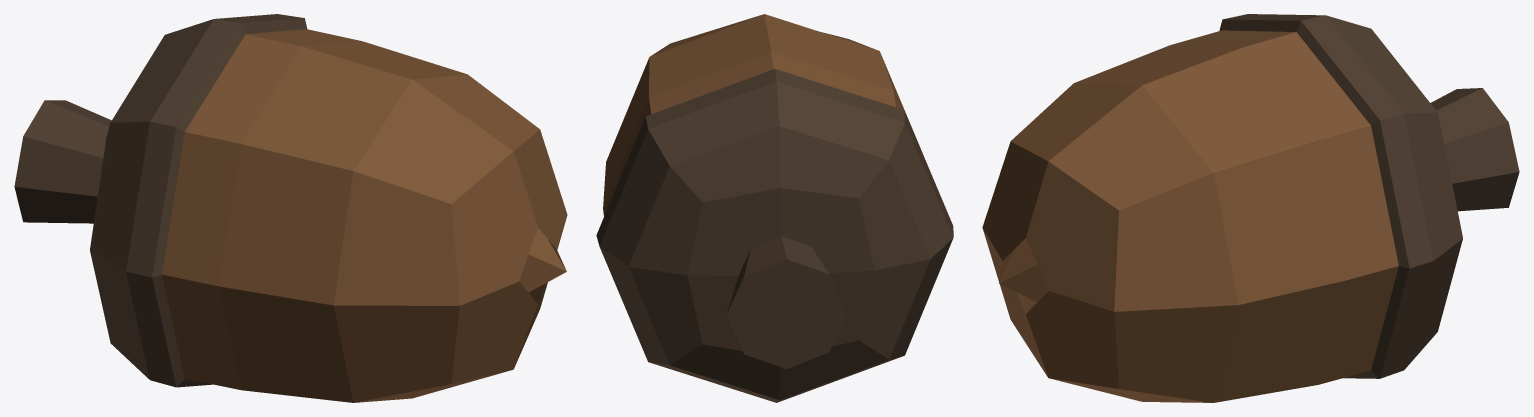
Rendered from dotori5.gltf.
The picture shows the model from 3 angles, left to right: view 1: azimuth 30°, elevation 25°; view 2: azimuth 150°, elevation 25°; view 3: azimuth 270°, elevation 25°; orthographic projection. The views are drawn at different scales.
Parts seen in each view (by area): view 1: Cube.005_Cube.004, Cube.006_Cube.004; view 2: Cube.006_Cube.004, Cube.005_Cube.004; view 3: Cube.005_Cube.004, Cube.006_Cube.004.
Part boxes in pixels (bbox=[...]): Cube.005_Cube.004: bbox=[162, 29, 567, 402]; Cube.006_Cube.004: bbox=[14, 14, 307, 387]; Cube.006_Cube.004: bbox=[596, 69, 953, 402]; Cube.005_Cube.004: bbox=[603, 14, 912, 216]; Cube.005_Cube.004: bbox=[982, 30, 1398, 402]; Cube.006_Cube.004: bbox=[1219, 14, 1519, 378].
Bounding box in the file's own units: 2.34 × 2.04 × 2.78.
